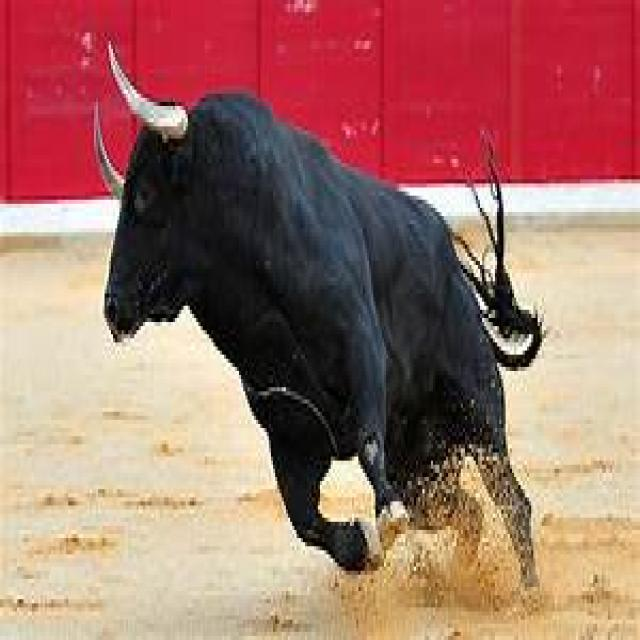cow: (105, 96, 534, 582)
